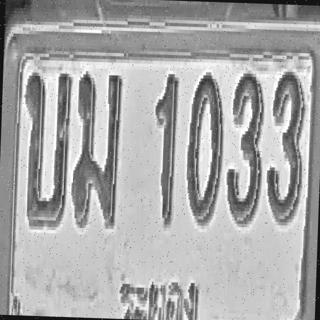A26: (20, 69, 72, 227)
A33: (70, 69, 122, 228)
N00: (185, 70, 225, 224)
N01: (150, 72, 178, 226)
N03: (225, 70, 265, 224), (266, 68, 306, 222)
P53: (114, 268, 204, 320)
